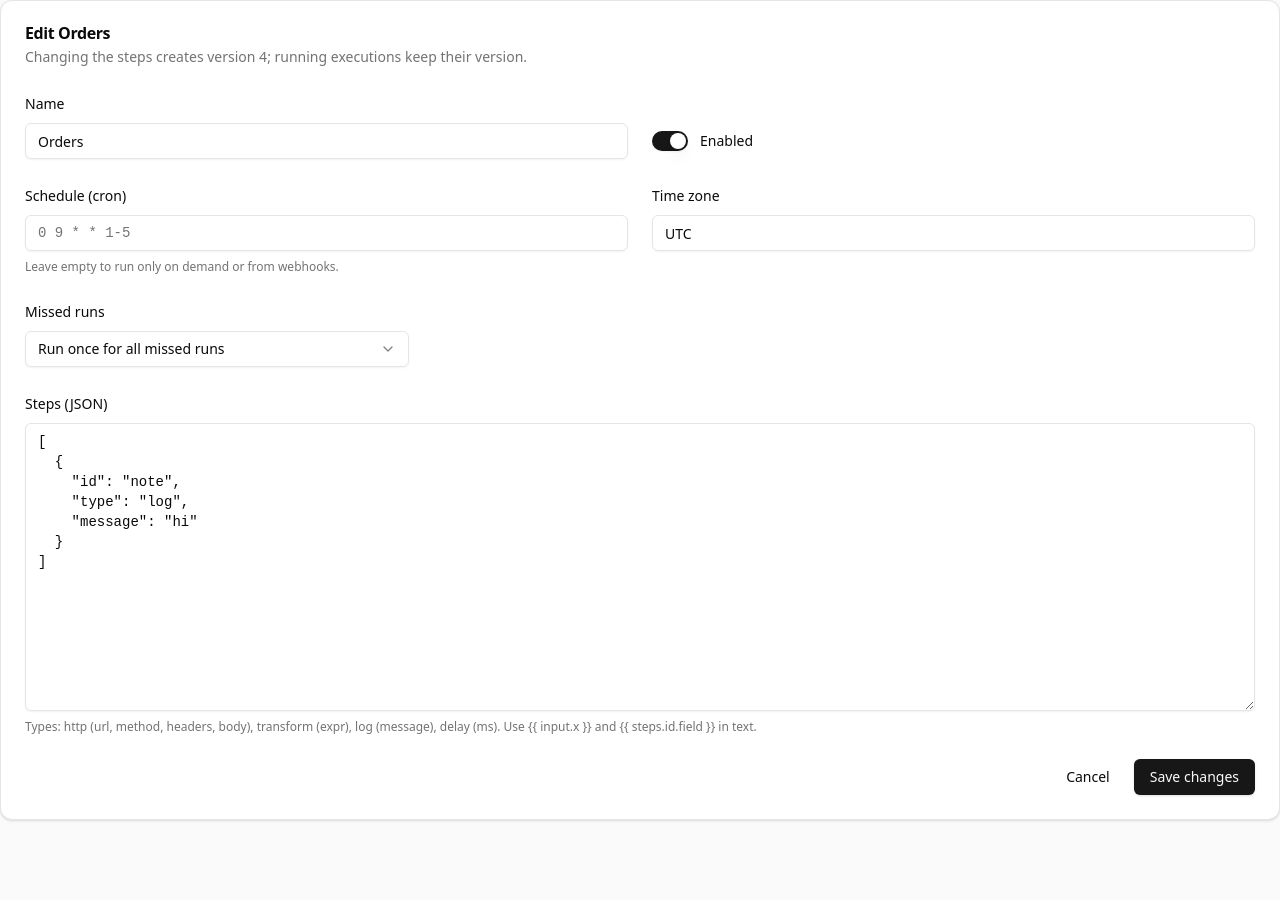
it: editing a workflow that someone else may change at the same time › explains the conflict even when the answer carries no message
The width and height of the screenshot is (1280, 900).
Replace the text in the field labelled "Name" with "Orders v2": (326, 141) [25,123,628,159]
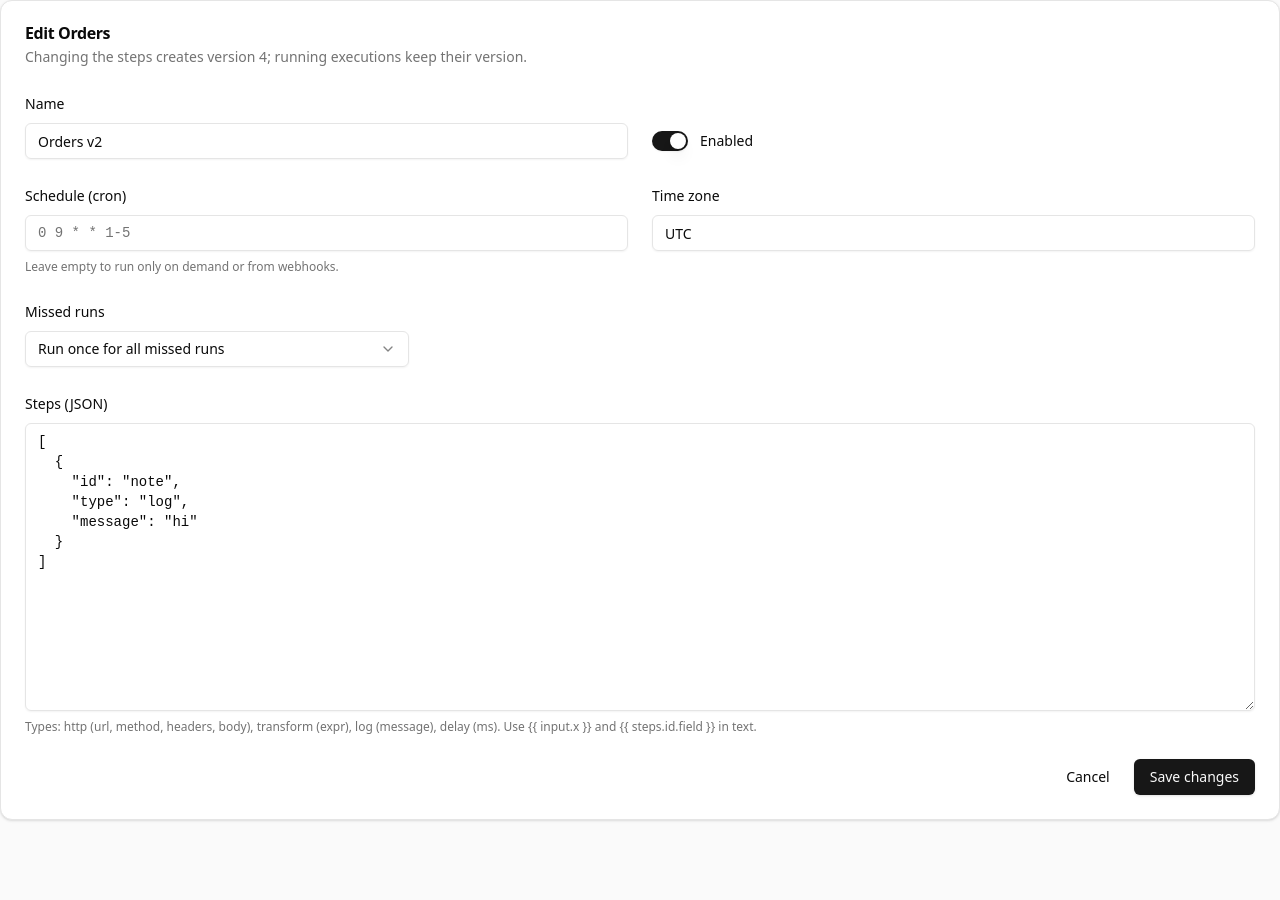
Click the button "Save changes": (1194, 777) [1134,759,1255,795]
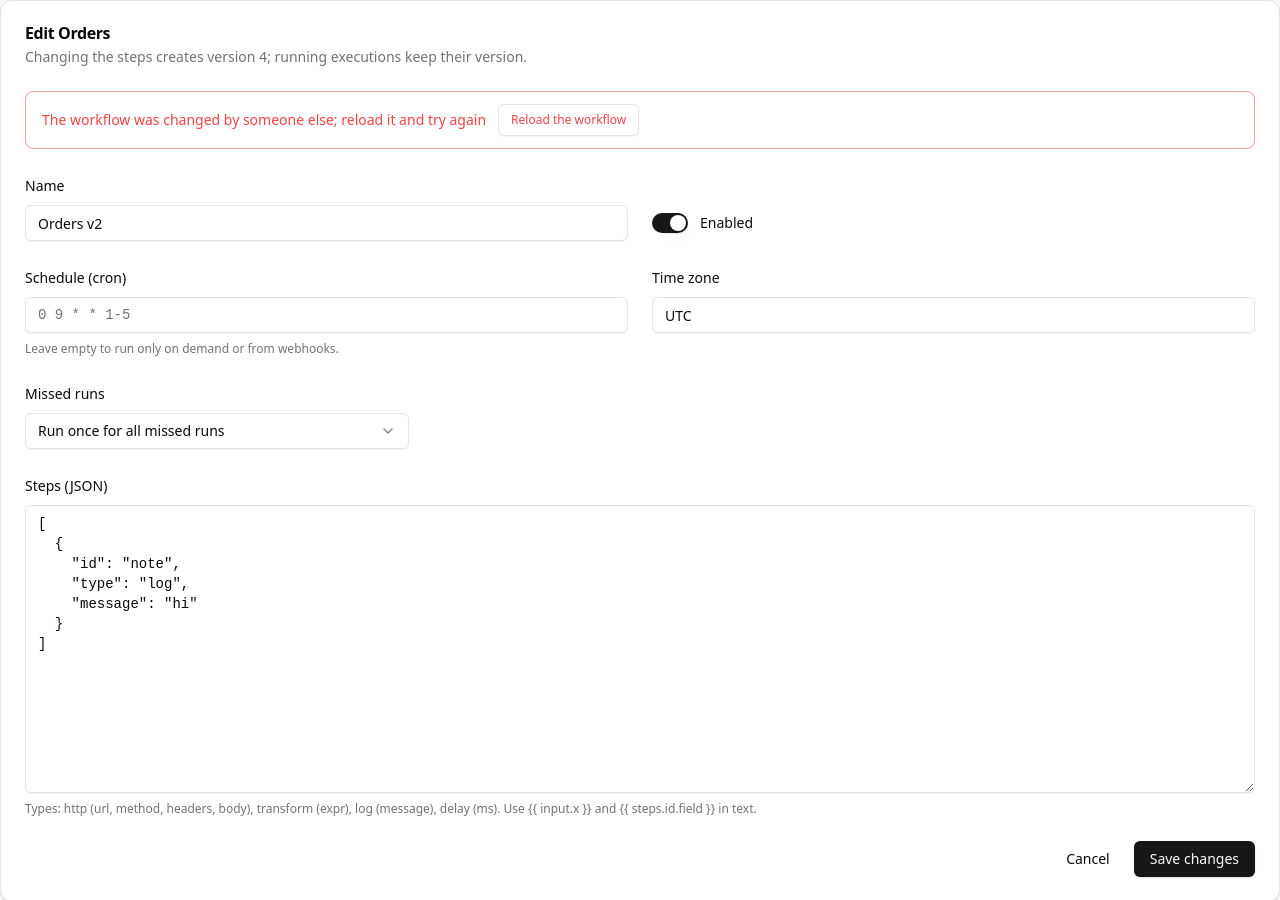
Check: the message shows "The workflow was changed by someone else; reload it and try again", box [42,110,486,129]
